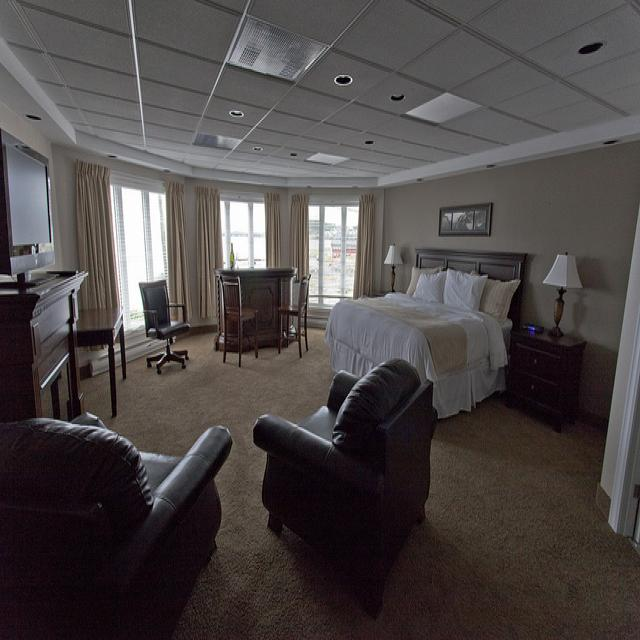chair: (1, 411, 235, 631), (253, 356, 438, 619), (140, 278, 190, 375), (219, 275, 258, 368), (277, 271, 311, 360)
dining table: (214, 266, 298, 352), (76, 307, 124, 331)
